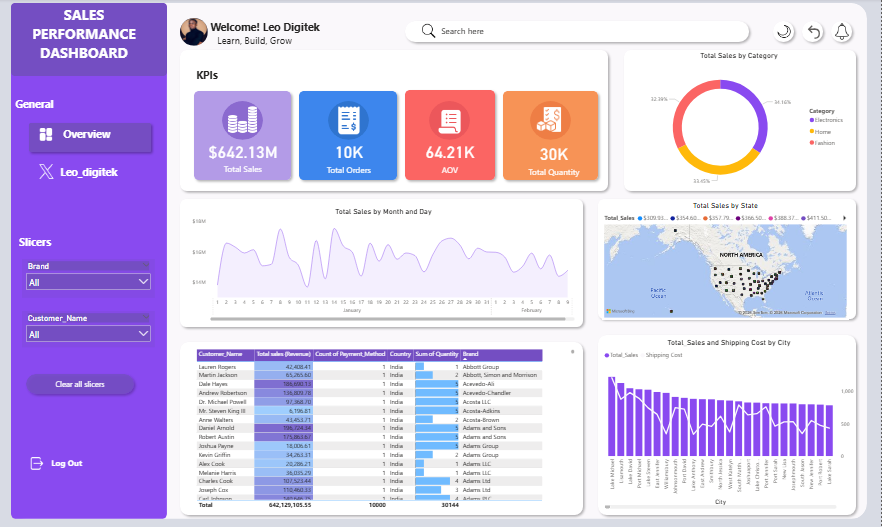

The page's visual inventory and layout, read from the dashboard file:
{"tool":"powerbi","page":{"name":"Page 1","canvas":[2000,1200],"ordinal":0},"visuals":[{"type":"shape","box":[31.7,11.3,1938.1,1168.3],"z":0},{"type":"shape","box":[31.7,11.3,353.2,1168.3],"z":1000},{"type":"shape","box":[405.3,108.7,987.2,337.4],"z":2000},{"type":"shape","box":[1410.6,108.7,543.4,337.4],"z":3000},{"type":"shape","box":[405.3,446,930.6,307.9],"z":4000},{"type":"shape","box":[405.3,769.8,930.6,409.8],"z":5000},{"type":"shape","box":[1351.7,446,602.3,289.8],"z":6000},{"type":"shape","box":[1351.7,754,602.3,425.7],"z":7000},{"type":"shape","box":[437,201.5,237.7,219.6],"z":8000},{"type":"shape","box":[674.7,201.5,240,219.6],"z":9000},{"type":"shape","box":[914.7,199.2,221.9,221.9],"z":10000},{"type":"shape","box":[1136.6,201.5,233.2,219.6],"z":11000},{"type":"shape","box":[914.7,43,797,65.7],"z":12000},{"type":"shape","box":[1747.9,43,65.7,65.7],"z":13000},{"type":"shape","box":[1813.6,43,65.7,65.7],"z":14000},{"type":"shape","box":[1879.2,43,65.7,65.7],"z":15000},{"type":"card","fields":{"Values":["Sum(Amazon_e_commerce_cleaned.Total_Sales)"]},"box":[446,310.2,221.9,95.1],"z":16000},{"type":"card","fields":{"Values":["Amazon_e_commerce_cleaned.Count of OrderID"]},"box":[695.1,312.5,203.8,92.8],"z":17000},{"type":"card","fields":{"Values":["Amazon_e_commerce_cleaned.AOV"]},"box":[930.6,312.5,190.2,92.8],"z":18000},{"type":"card","fields":{"Values":["Sum(Amazon_e_commerce_cleaned.Quantity)"]},"box":[1152.5,312.5,217.4,101.9],"z":19000},{"type":"lineChart","fields":{"Category":["Amazon_e_commerce_cleaned.Order_Date.Variation.Date Hierarchy.Month","Amazon_e_commerce_cleaned.Order_Date.Variation.Date Hierarchy.Day"],"Y":["Sum(Amazon_e_commerce_cleaned.Total_Sales)"]},"box":[437,473.2,876.2,262.6],"z":20000},{"type":"tableEx","fields":{"Values":["Amazon_e_commerce_cleaned.Customer_Name","Amazon_e_commerce_cleaned.Total sales (Revenue)","CountNonNull(Amazon_e_commerce_cleaned.Payment_Method)","Amazon_e_commerce_cleaned.Country","Sum(Amazon_e_commerce_cleaned.Quantity)","Amazon_e_commerce_cleaned.Brand"]},"box":[446,790.2,867.2,371.3],"z":21000},{"type":"lineStackedColumnComboChart","fields":{"Category":["Amazon_e_commerce_cleaned.City"],"Y":["Sum(Amazon_e_commerce_cleaned.Total_Sales)"],"Y2":["Sum(Amazon_e_commerce_cleaned.Shipping_Cost)"]},"box":[1369.8,769.8,575.1,391.7],"z":22000},{"type":"map","title":"Total Sales by State","fields":{"Category":["Amazon_e_commerce_cleaned.State"],"Series":["Amazon_e_commerce_cleaned.Total_Sales"]},"box":[1369.8,459.6,559.2,269.4],"z":23000},{"type":"donutChart","fields":{"Category":["Amazon_e_commerce_cleaned.Category"],"Y":["Sum(Amazon_e_commerce_cleaned.Total_Sales)"]},"box":[1430.9,120,498.1,326],"z":24000},{"type":"image","box":[1766,54.3,31.7,43],"z":25000},{"type":"image","box":[1895.1,54.3,36.2,43],"z":26000},{"type":"slicer","fields":{"Values":["Amazon_e_commerce_cleaned.Customer_Name"]},"box":[56.6,708.7,301.1,81.5],"z":27000},{"type":"slicer","fields":{"Values":["Amazon_e_commerce_cleaned.Brand"]},"box":[56.6,590.9,301.1,88.3],"z":28000},{"type":"textbox","box":[31.7,529.8,221.9,43],"z":29000},{"type":"shape","box":[56.6,842.3,262.6,63.4],"z":30000},{"type":"actionButton","box":[88.3,842.3,199.2,63.4],"z":31000},{"type":"textbox","box":[36.2,217.4,301.1,43],"z":32000},{"type":"shape","box":[1206.8,233.2,92.8,88.3],"z":33000},{"type":"shape","box":[978.1,233.2,92.8,88.3],"z":34000},{"type":"shape","box":[749.4,233.2,92.8,88.3],"z":35000},{"type":"shape","box":[509.4,233.2,92.8,88.3],"z":36000},{"type":"image","box":[1218.1,240,63.4,70.2],"z":37000},{"type":"image","box":[989.4,249.1,72.5,63.4],"z":38000},{"type":"image","box":[760.8,233.2,72.5,88.3],"z":39000},{"type":"image","box":[523,235.5,65.7,77],"z":40000},{"type":"shape","box":[63.4,274,294.3,83.8],"z":41000},{"type":"image","box":[83.8,289.8,54.3,38.5],"z":42000},{"type":"textbox","box":[138.1,285.3,219.6,54.3],"z":43000},{"type":"image","box":[414.3,45.3,63.4,63.4],"z":44000},{"type":"textbox","box":[477.7,43,355.5,54.3],"z":45000},{"type":"actionButton","box":[1829.4,56.6,49.8,40.8],"z":46000},{"type":"textbox","box":[446,151.7,217.4,47.5],"z":47000},{"type":"textbox","box":[493.6,77,267.2,43],"z":48000},{"type":"shape","box":[31.7,11.3,353.2,165.3],"z":49000},{"type":"textbox","box":[56.6,9.1,280.8,167.5],"z":50000},{"type":"image","box":[953.2,56.6,47.5,36.2],"z":51000},{"type":"image","box":[63.4,1034.7,54.3,38.5],"z":52000},{"type":"textbox","box":[117.7,1034.7,201.5,77],"z":53000},{"type":"textbox","box":[1000.8,56.6,298.9,36.2],"z":53001},{"type":"image","box":[63.4,371.3,97.4,43],"z":53002},{"type":"textbox","box":[138.1,371.3,219.6,43],"z":53003}]}

Visuals, with their boxes on the page's 2000x1200 design canvas (x1, y1, x2, y2). These are canvas units, not pixel positions in the 882x527 screenshot, which may show the page scaled, cropped or inside an application window:
shape: (x1=32, y1=11, x2=1970, y2=1180)
shape: (x1=32, y1=11, x2=385, y2=1180)
shape: (x1=405, y1=109, x2=1392, y2=446)
shape: (x1=1411, y1=109, x2=1954, y2=446)
shape: (x1=405, y1=446, x2=1336, y2=754)
shape: (x1=405, y1=770, x2=1336, y2=1180)
shape: (x1=1352, y1=446, x2=1954, y2=736)
shape: (x1=1352, y1=754, x2=1954, y2=1180)
shape: (x1=437, y1=202, x2=675, y2=421)
shape: (x1=675, y1=202, x2=915, y2=421)
shape: (x1=915, y1=199, x2=1137, y2=421)
shape: (x1=1137, y1=202, x2=1370, y2=421)
shape: (x1=915, y1=43, x2=1712, y2=109)
shape: (x1=1748, y1=43, x2=1814, y2=109)
shape: (x1=1814, y1=43, x2=1879, y2=109)
shape: (x1=1879, y1=43, x2=1945, y2=109)
card - Sum(Amazon_e_commerce_cleaned.Total_Sales): (x1=446, y1=310, x2=668, y2=405)
card - Amazon_e_commerce_cleaned.Count of OrderID: (x1=695, y1=312, x2=899, y2=405)
card - Amazon_e_commerce_cleaned.AOV: (x1=931, y1=312, x2=1121, y2=405)
card - Sum(Amazon_e_commerce_cleaned.Quantity): (x1=1152, y1=312, x2=1370, y2=414)
lineChart - Amazon_e_commerce_cleaned.Order_Date.Variation.Date Hierarchy.Month x Amazon_e_commerce_cleaned.Order_Date.Variation.Date Hierarchy.Day: (x1=437, y1=473, x2=1313, y2=736)
tableEx - Amazon_e_commerce_cleaned.Customer_Name x Amazon_e_commerce_cleaned.Total sales (Revenue): (x1=446, y1=790, x2=1313, y2=1162)
lineStackedColumnComboChart - Amazon_e_commerce_cleaned.City x Sum(Amazon_e_commerce_cleaned.Total_Sales): (x1=1370, y1=770, x2=1945, y2=1162)
"Total Sales by State" map: (x1=1370, y1=460, x2=1929, y2=729)
donutChart - Amazon_e_commerce_cleaned.Category x Sum(Amazon_e_commerce_cleaned.Total_Sales): (x1=1431, y1=120, x2=1929, y2=446)
image: (x1=1766, y1=54, x2=1798, y2=97)
image: (x1=1895, y1=54, x2=1931, y2=97)
slicer - Amazon_e_commerce_cleaned.Customer_Name: (x1=57, y1=709, x2=358, y2=790)
slicer - Amazon_e_commerce_cleaned.Brand: (x1=57, y1=591, x2=358, y2=679)
textbox: (x1=32, y1=530, x2=254, y2=573)
shape: (x1=57, y1=842, x2=319, y2=906)
actionButton: (x1=88, y1=842, x2=288, y2=906)
textbox: (x1=36, y1=217, x2=337, y2=260)
shape: (x1=1207, y1=233, x2=1300, y2=322)
shape: (x1=978, y1=233, x2=1071, y2=322)
shape: (x1=749, y1=233, x2=842, y2=322)
shape: (x1=509, y1=233, x2=602, y2=322)
image: (x1=1218, y1=240, x2=1282, y2=310)
image: (x1=989, y1=249, x2=1062, y2=312)
image: (x1=761, y1=233, x2=833, y2=322)
image: (x1=523, y1=236, x2=589, y2=312)
shape: (x1=63, y1=274, x2=358, y2=358)
image: (x1=84, y1=290, x2=138, y2=328)
textbox: (x1=138, y1=285, x2=358, y2=340)
image: (x1=414, y1=45, x2=478, y2=109)
textbox: (x1=478, y1=43, x2=833, y2=97)
actionButton: (x1=1829, y1=57, x2=1879, y2=97)
textbox: (x1=446, y1=152, x2=663, y2=199)
textbox: (x1=494, y1=77, x2=761, y2=120)
shape: (x1=32, y1=11, x2=385, y2=177)
textbox: (x1=57, y1=9, x2=337, y2=177)
image: (x1=953, y1=57, x2=1001, y2=93)
image: (x1=63, y1=1035, x2=118, y2=1073)
textbox: (x1=118, y1=1035, x2=319, y2=1112)
textbox: (x1=1001, y1=57, x2=1300, y2=93)
image: (x1=63, y1=371, x2=161, y2=414)
textbox: (x1=138, y1=371, x2=358, y2=414)
